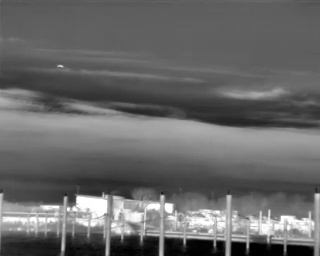BIRD: (55, 61, 66, 71)
